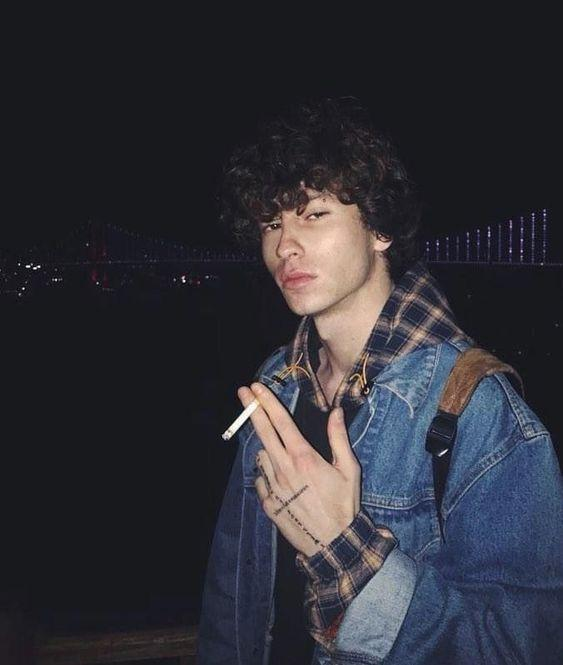cigarette: (222, 399, 260, 440)
